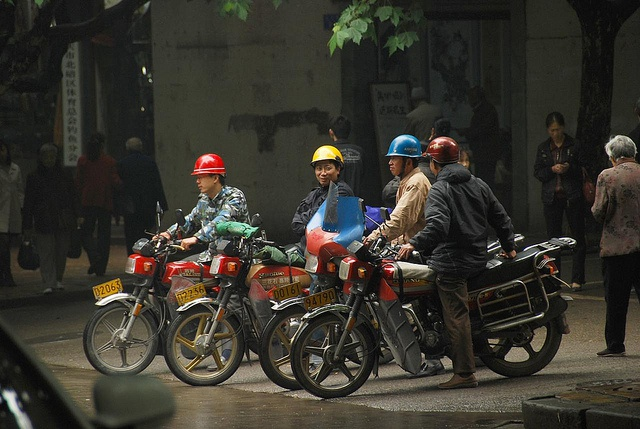non-vehicle: (289, 197, 578, 399), (164, 212, 310, 386), (84, 198, 215, 377), (258, 179, 363, 388)
